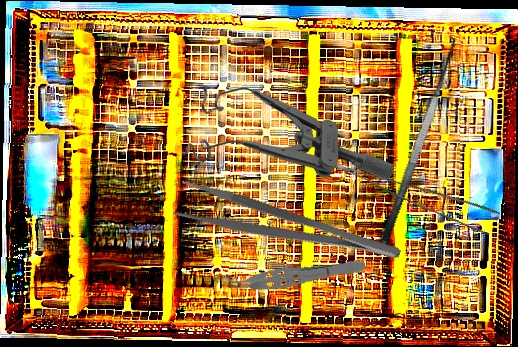Dressing Forceps: (172, 176, 403, 283)
Spatula Surgical: (356, 31, 468, 257)
Speculum: (181, 83, 395, 181)
Tissue Forceps: (332, 135, 500, 244), (220, 253, 367, 297)
